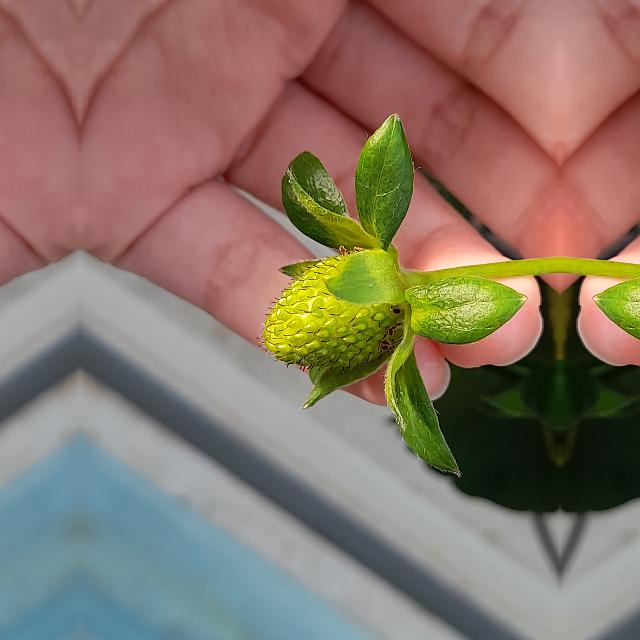Health_25: (255, 245, 400, 371)
